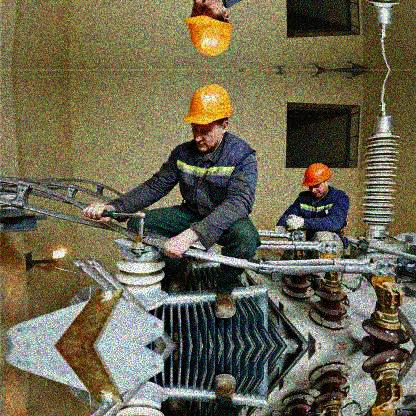helmet: (183, 83, 231, 153), (180, 1, 232, 56), (300, 160, 331, 200)
